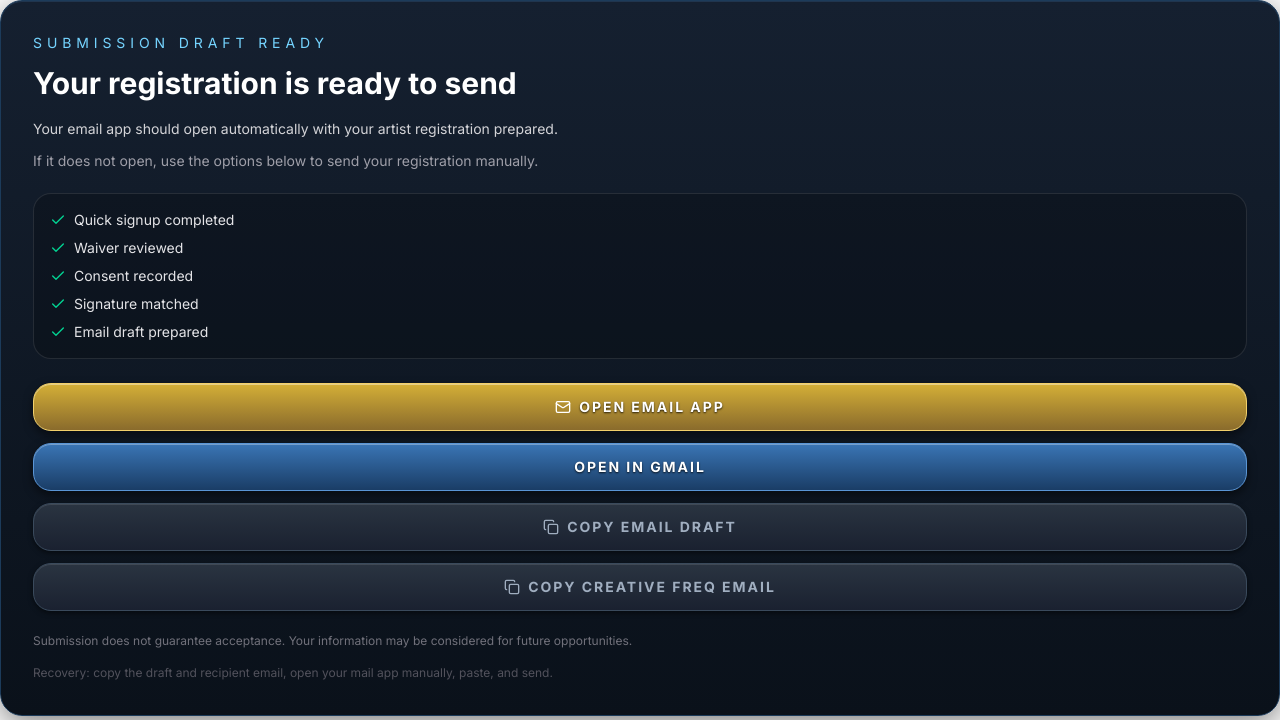
Scenario: Email success panel › copies email draft when Copy Email Draft is clicked
The width and height of the screenshot is (1280, 720).
Click the button "Copy Email Draft".
click(640, 527)  # box x1=33 y1=503 x2=1247 y2=551
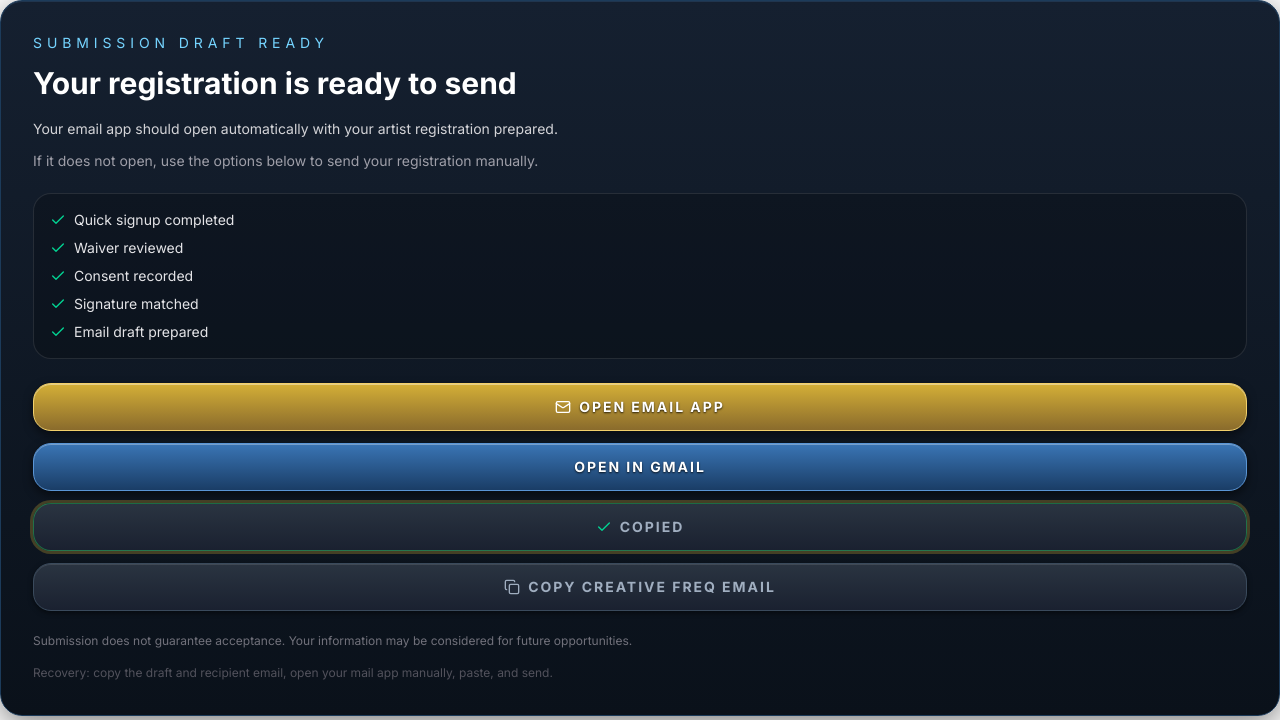
Expected: the button "Copied" is shown, x1=33 y1=503 x2=1247 y2=551
